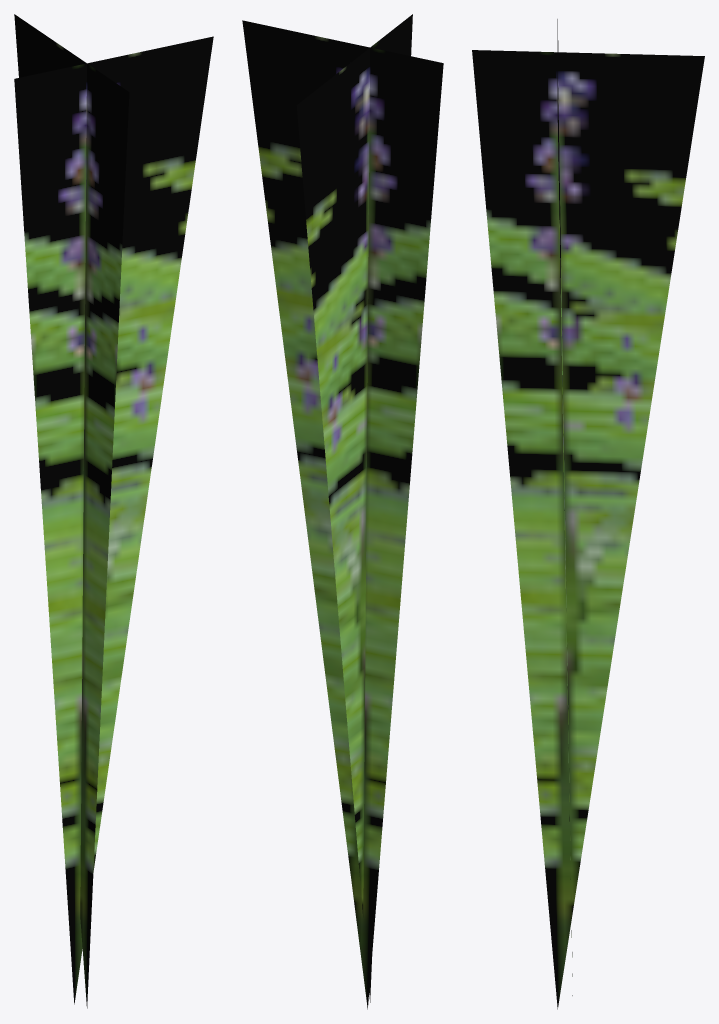
Rendered from Lavender.fbx.
3 views of the same model, side by side, from view 1: azimuth 30°, elevation 25°; view 2: azimuth 150°, elevation 25°; view 3: azimuth 270°, elevation 25° (orthographic).
Parts seen in each view (by area): view 1: PSX_Lavender_; view 2: PSX_Lavender_; view 3: PSX_Lavender_.
Part boxes in pixels (x1,y1,x2,y2): PSX_Lavender_: [14, 14, 213, 1008]; PSX_Lavender_: [242, 14, 443, 1009]; PSX_Lavender_: [472, 19, 704, 1009].
Bounding box in the file's own units: 44.11 × 201 × 44.12.
Materials: 1 (1 with a texture image).
